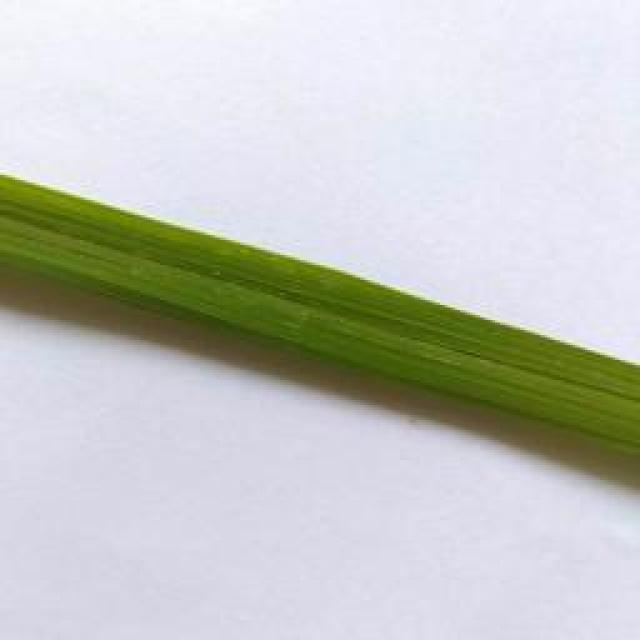Healthy-Plant: (0, 165, 640, 453)
